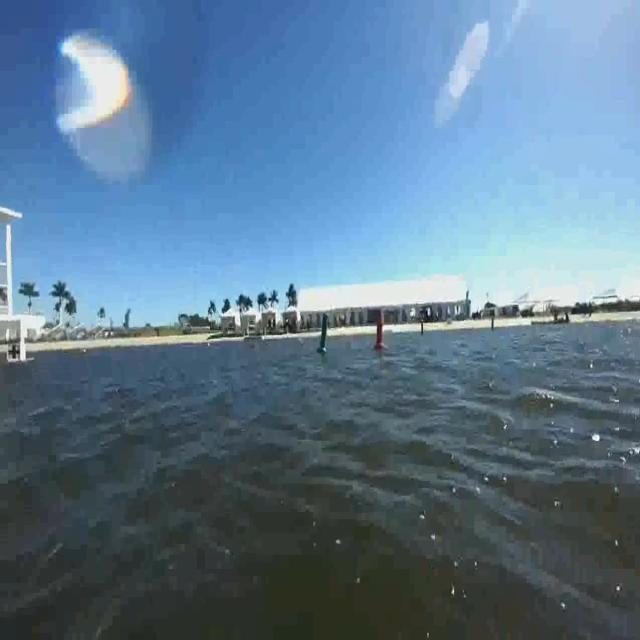green-column-buoy: (318, 313, 334, 356)
red-column-buoy: (372, 312, 386, 353)
